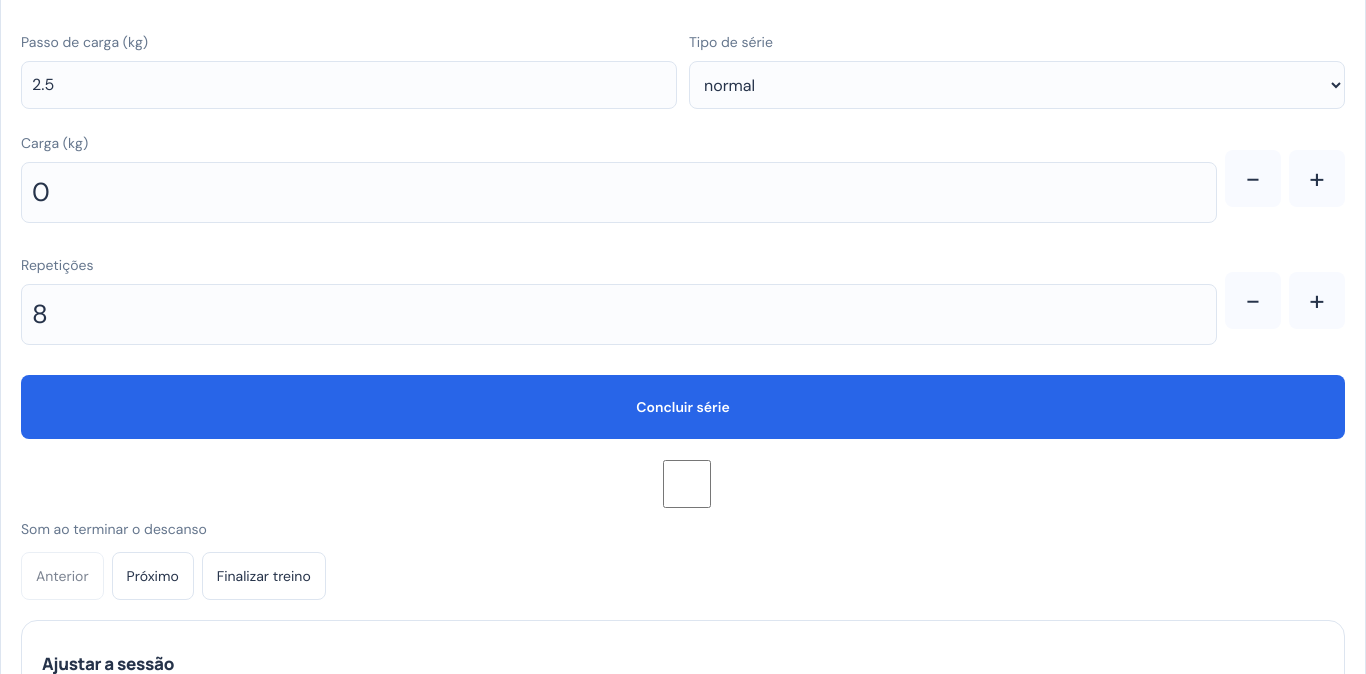
Scenario: academia conclui em um toque e desfaz preservando a sessão
(page scrolled)
Click the button "Concluir série".
click(683, 407)  # box top-left (21, 375), bottom-right (1345, 439)
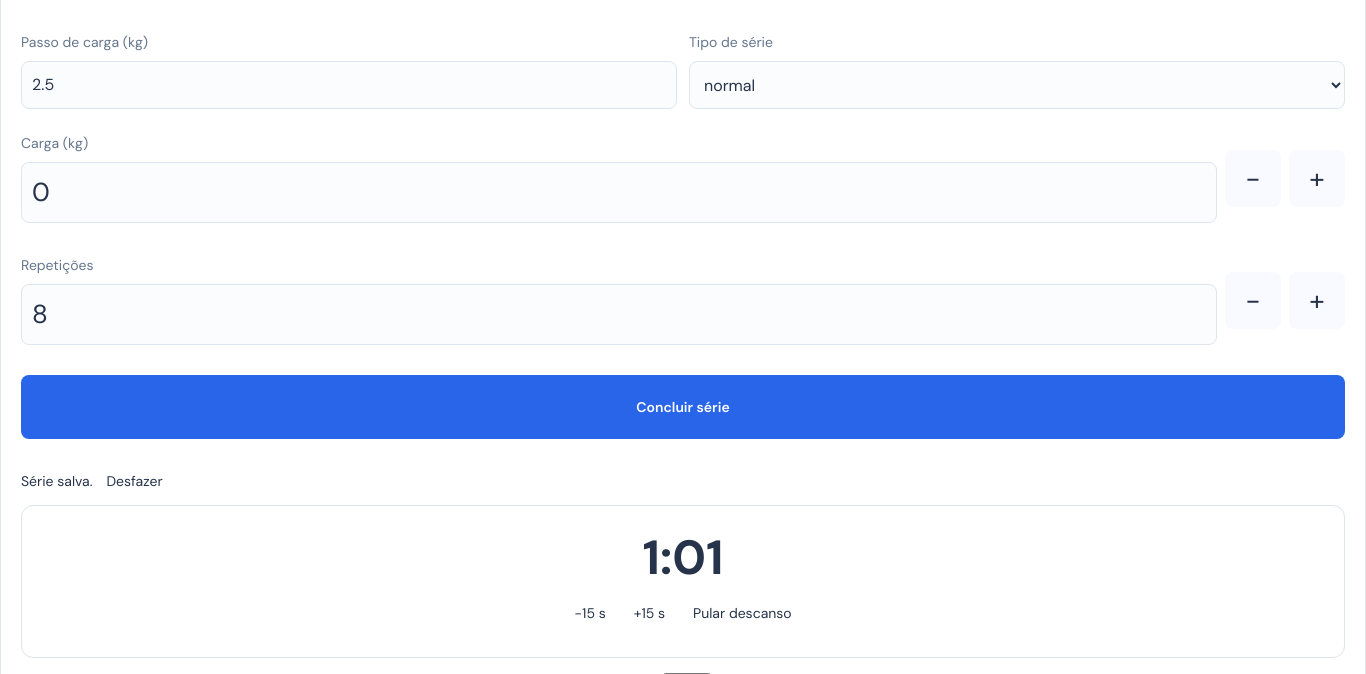
Expected: the text named "Descanso" is shown, top-left (642, 526), bottom-right (724, 589)
Click the button "Desfazer".
click(135, 481)  # box top-left (92, 457), bottom-right (177, 505)
(page scrolled)
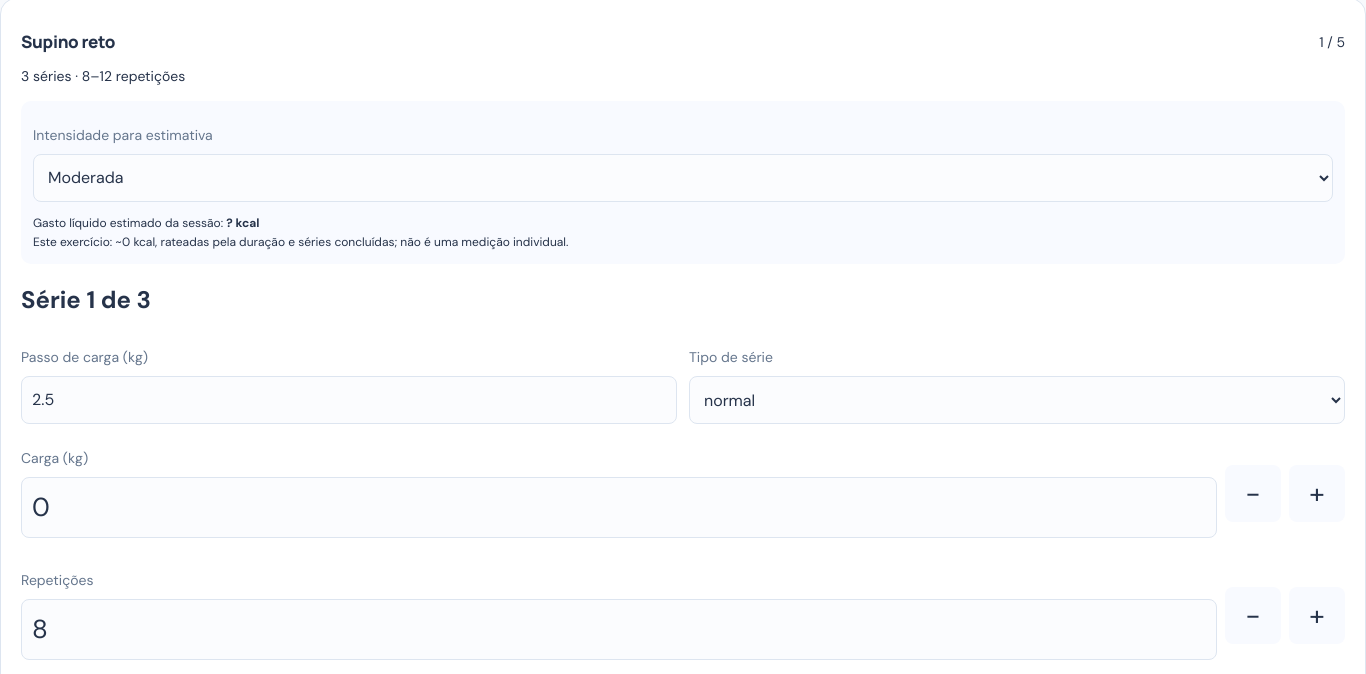
Expected: the text "Série 1 de 3" is shown, top-left (21, 284), bottom-right (151, 315)
